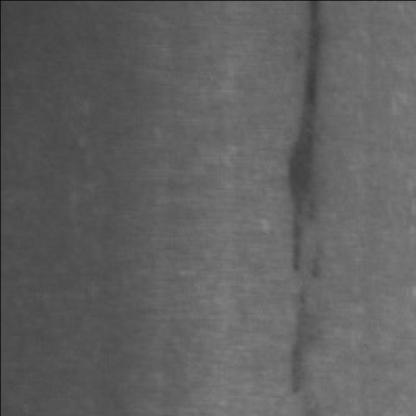inclusion: (277, 2, 335, 281), (276, 272, 323, 410)
